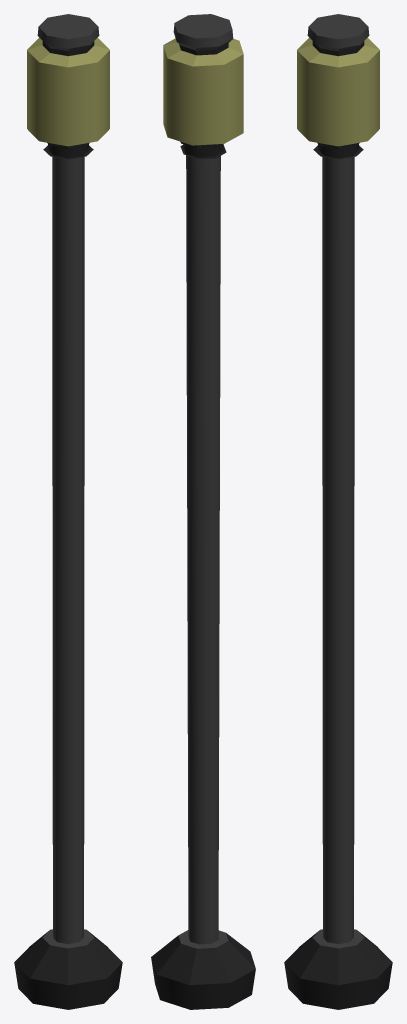
Rendered from Garage Light.FBX.
3 renders of one model, left to right at view 1: azimuth 90°, elevation 25°; view 2: azimuth 210°, elevation 25°; view 3: azimuth 270°, elevation 25°, orthographic.
Visible parts, largest first — view 1: Garage Light; view 2: Garage Light; view 3: Garage Light.
Part boxes in pixels (bbox=[...]): Garage Light: bbox=[14, 14, 122, 1009]; Garage Light: bbox=[151, 14, 255, 1009]; Garage Light: bbox=[284, 14, 392, 1009].
Size of the model in its own units: 0.2089 by 2.04 by 0.2089.
